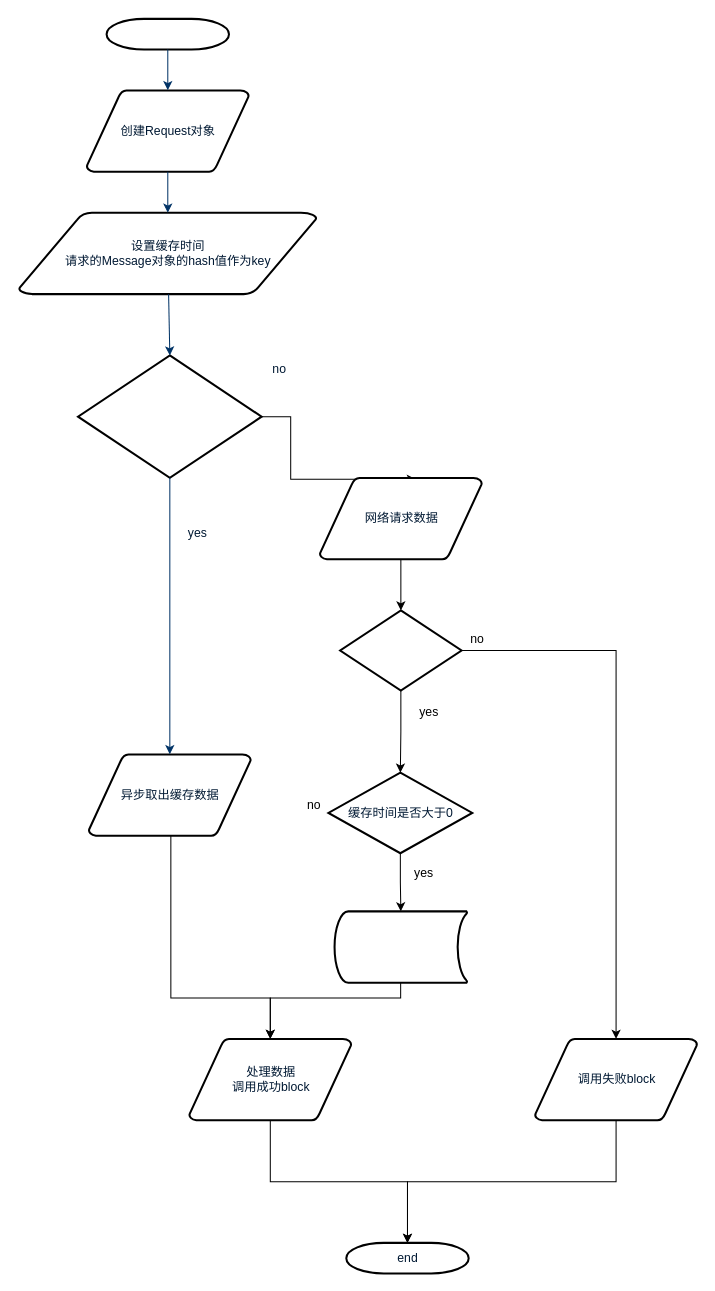
This 715x1291 diagram has some shape labels left out. Here are the shapes that lost their labels. From the top down, the centre of each, then its label:
At (x=167, y=33): "start".
At (x=169, y=416): "缓存时间大于0 & 缓存数据存在 & 缓存数据有效".
At (x=400, y=650): "数据请求成功".
At (x=400, y=946): "根据缓存时间 异步缓存数据".
